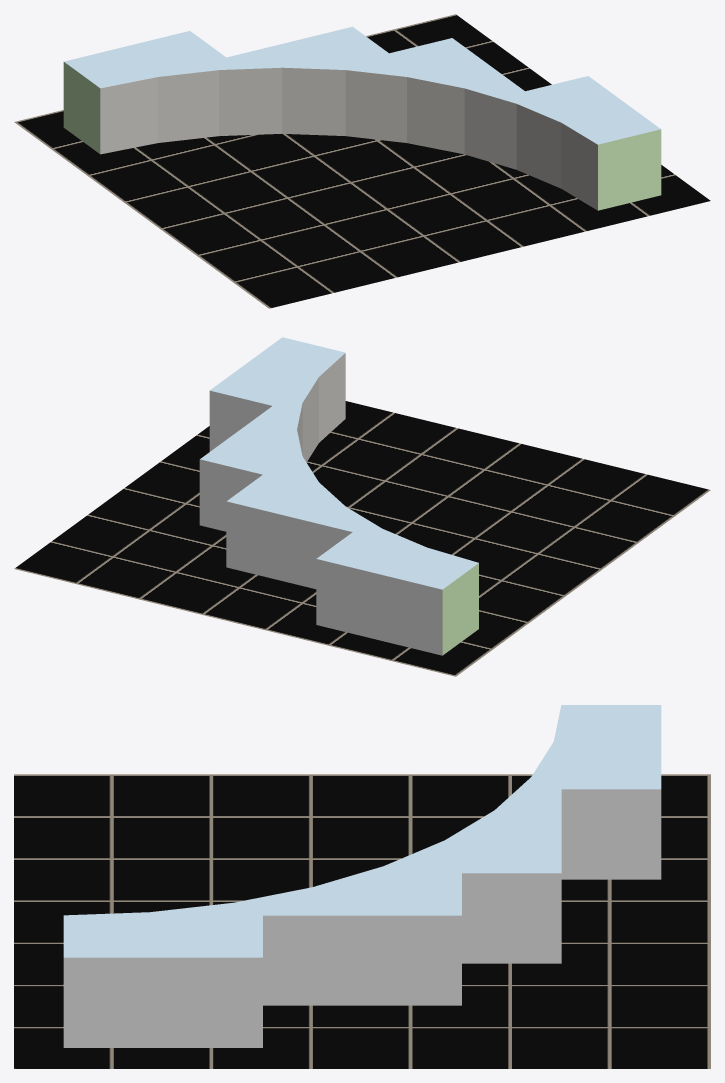
Rendered from Wall_Curve_Inner_6x6_Mid.glb.
3 views of the same model, one above another, from view 1: azimuth 30°, elevation 25°; view 2: azimuth 150°, elevation 25°; view 3: azimuth 270°, elevation 25° (orthographic). The views are drawn at different scales.
Parts seen in each view (by area): view 1: Floor, Wall_Curve_Inner_6x6_Mid; view 2: Floor, Wall_Curve_Inner_6x6_Mid; view 3: Floor, Wall_Curve_Inner_6x6_Mid.
Part boxes in pixels (<box>): Floor: <box>14,14,710,308</box>; Wall_Curve_Inner_6x6_Mid: <box>63,26,661,210</box>; Floor: <box>14,401,710,676</box>; Wall_Curve_Inner_6x6_Mid: <box>199,337,478,655</box>; Floor: <box>14,774,710,1068</box>; Wall_Curve_Inner_6x6_Mid: <box>63,705,661,1047</box>.
Bounding box in the file's own units: 700 × 100 × 700.
Materials: 5 (1 with a texture image).
